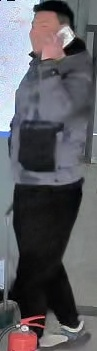phone: (19, 3, 92, 126)
